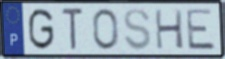E: (184, 8, 218, 52)
G: (27, 7, 56, 52)
H: (153, 8, 186, 51)
O: (91, 8, 120, 52)
S: (122, 7, 153, 52)
T: (60, 6, 85, 52)
